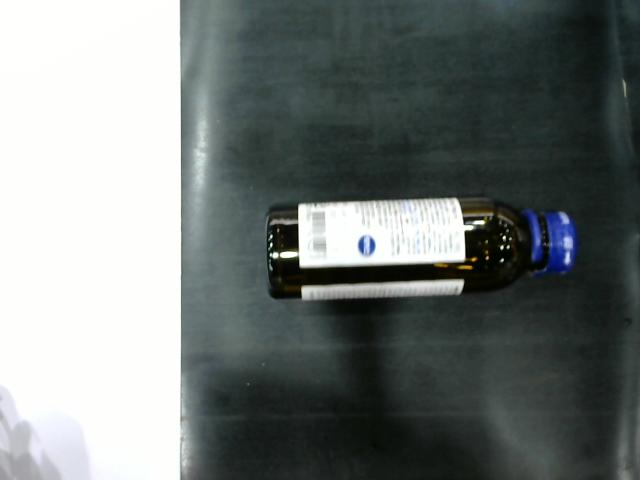glass: (251, 188, 581, 310)
